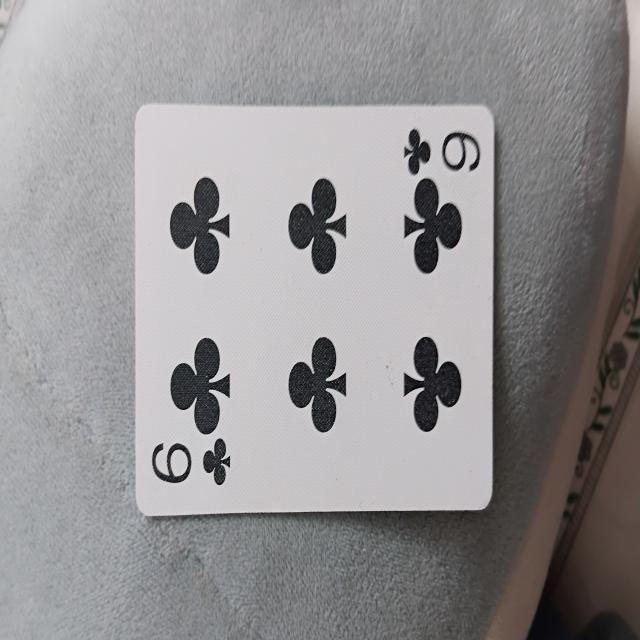6C: (133, 98, 494, 516)
